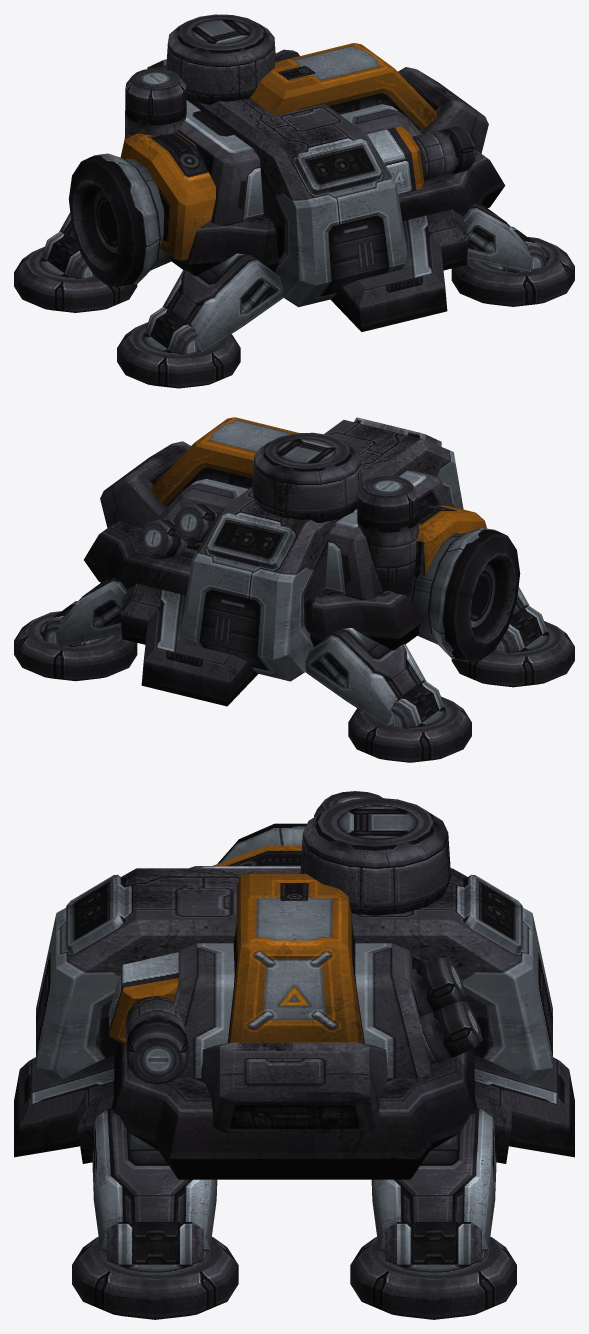
Rendered from EngineeringBar.FBX.
The picture shows the model from 3 angles, top to bottom: view 1: azimuth 30°, elevation 25°; view 2: azimuth 150°, elevation 25°; view 3: azimuth 270°, elevation 25°; orthographic projection. The views are drawn at different scales.
Visible parts, largest first — view 1: EngineeringBay; view 2: EngineeringBay; view 3: EngineeringBay.
Part boxes in pixels (x1=…): EngineeringBay: x1=14, y1=14, x2=574, y2=388; EngineeringBay: x1=14, y1=417, x2=574, y2=762; EngineeringBay: x1=14, y1=791, x2=574, y2=1319.
Size of the model in its own units: 4.25 by 2.26 by 3.46.
Materials: 1 (1 with a texture image).
